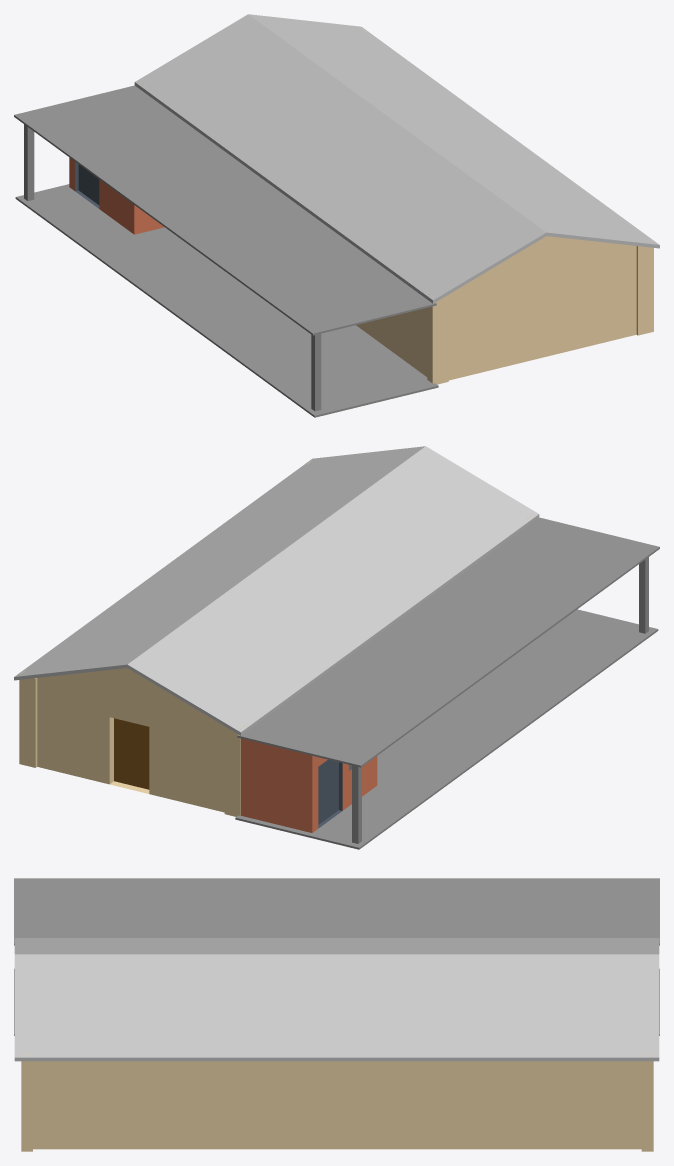
The model's file is bodegacmoedor.gltf.
3 views of the same model, one above another, from view 1: azimuth 30°, elevation 25°; view 2: azimuth 150°, elevation 25°; view 3: azimuth 270°, elevation 25° (orthographic). The views are drawn at different scales.
Visible parts, largest first — view 1: Cube; view 2: Cube; view 3: Cube.
Part boxes in pixels (x1,y1,x2,y2): Cube: [14, 14, 659, 417]; Cube: [14, 446, 659, 849]; Cube: [14, 878, 659, 1151].
Bounding box in the file's own units: 12.21 × 4.31 × 18.19.
